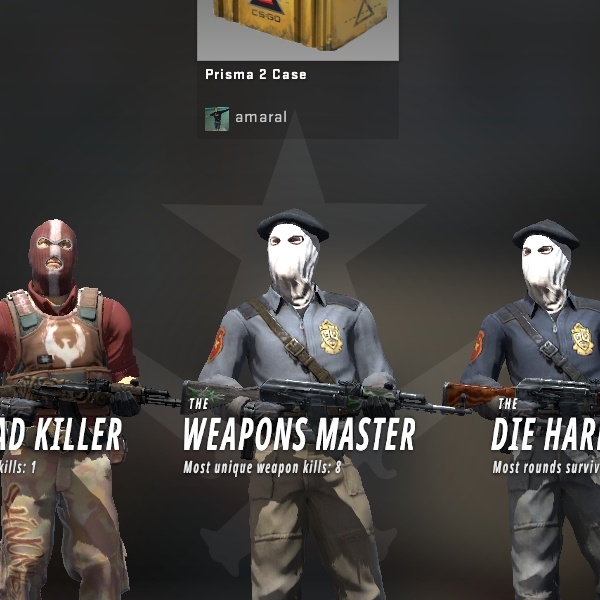t_body: (0, 193, 176, 600)
t_head: (5, 204, 104, 314)
